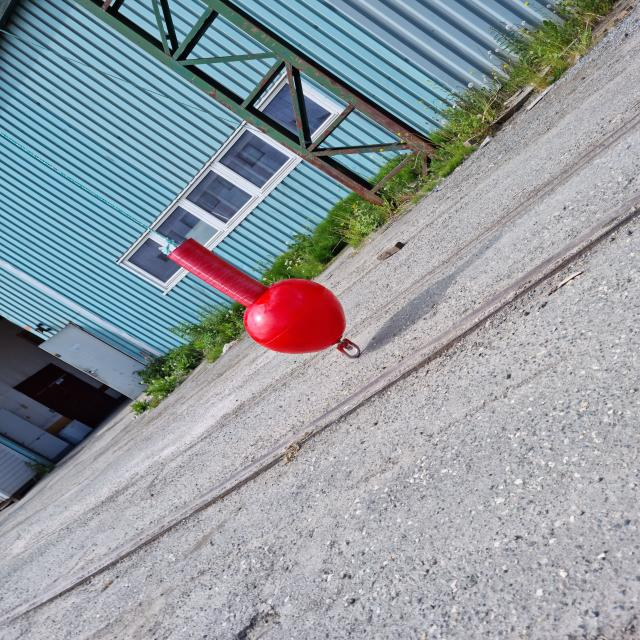red: (167, 238, 347, 352)
